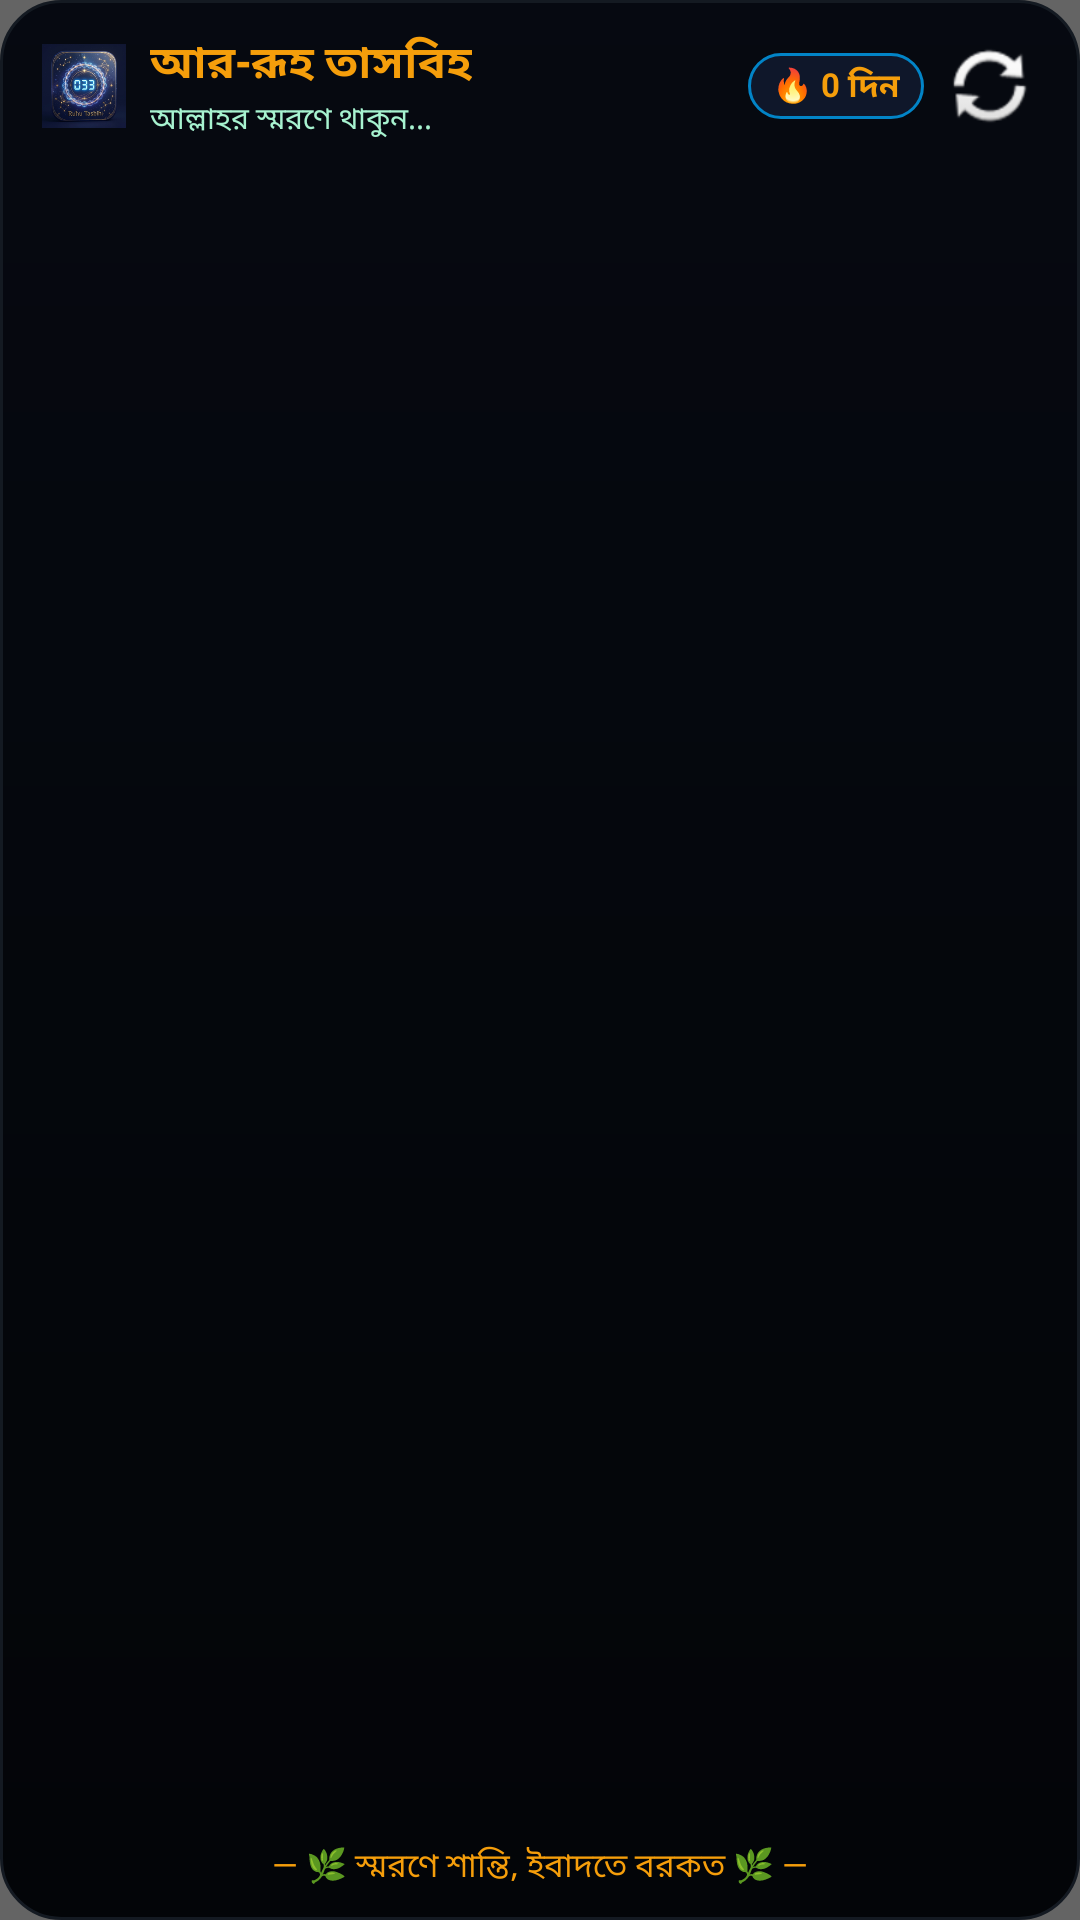

Icon bounding boxes for this 1080 x 1920 phone screenshot, format (x1=x1, y1=y1, x2=x2, y2=y2):
Refresh: (x1=953, y1=50, x2=1026, y2=122)
